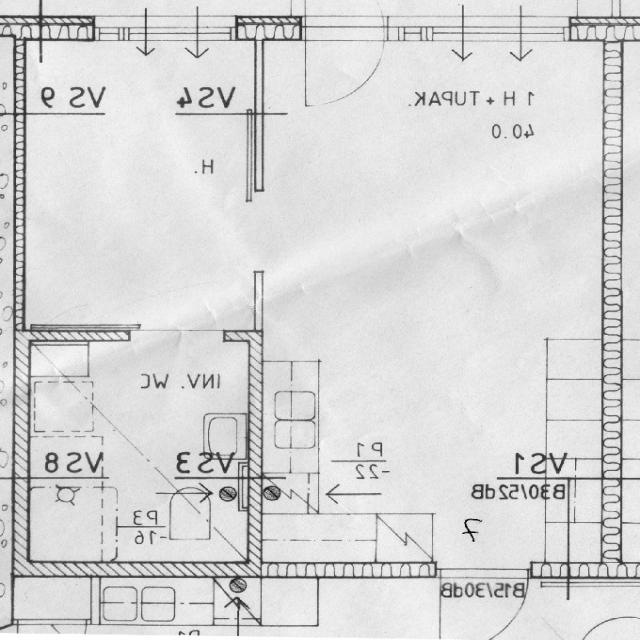door: (306, 16, 385, 107), (306, 0, 385, 42)
